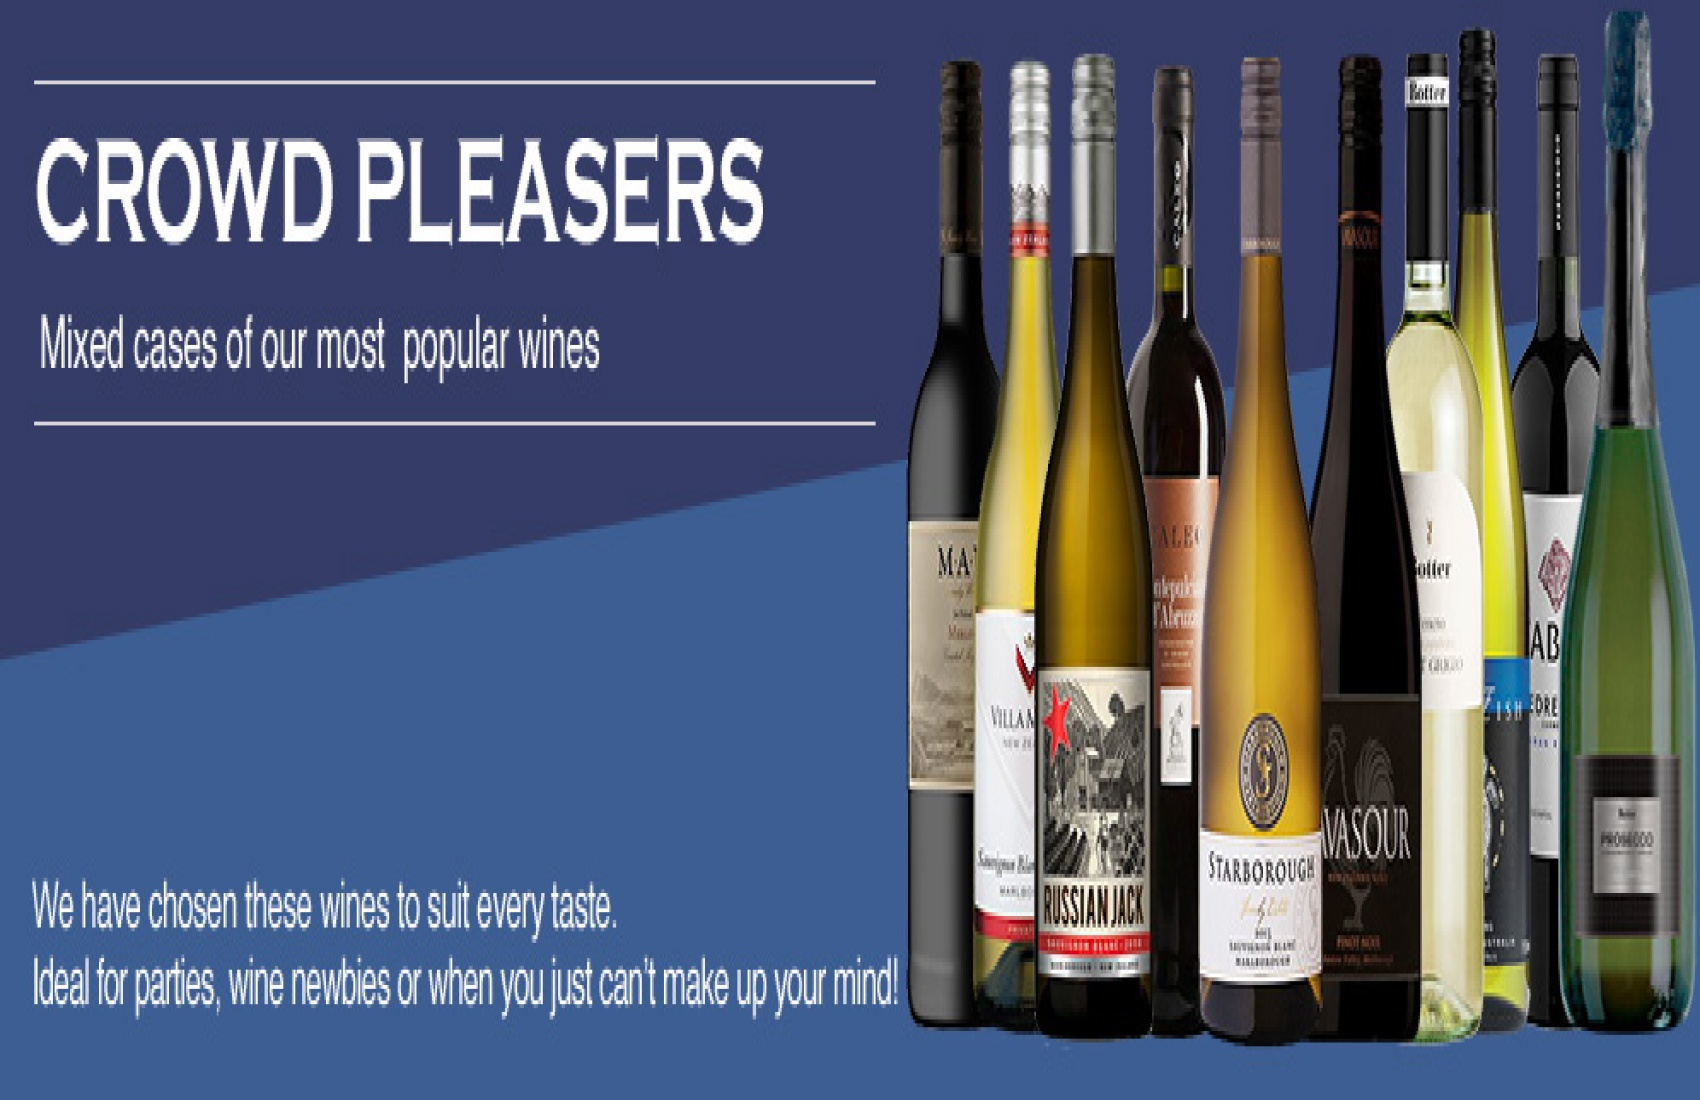wine: (1198, 77, 1323, 1044), (1559, 52, 1684, 1019), (1031, 64, 1156, 1031), (900, 68, 985, 1038)
